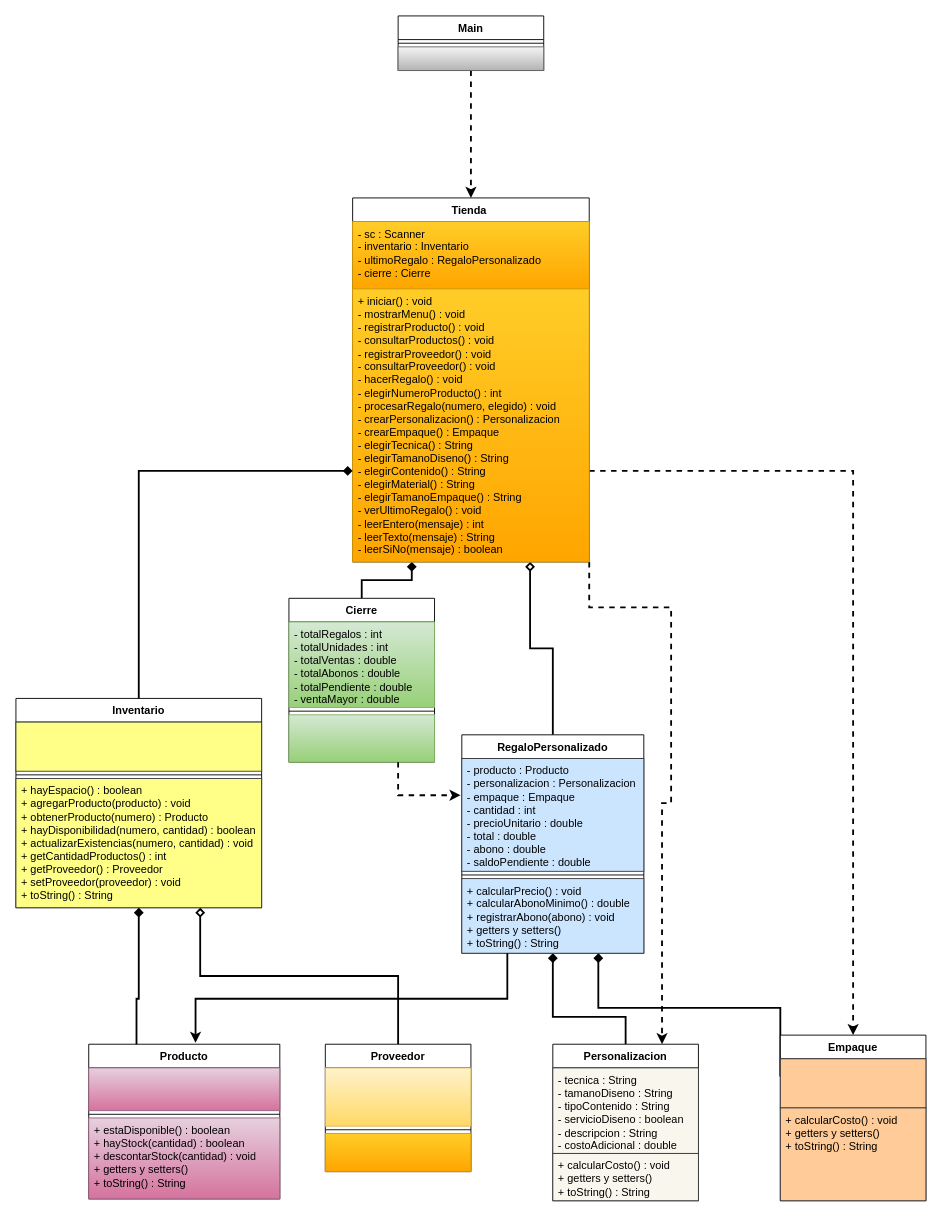
Some shapes in this 942 by 1219 pixel diagram are drawn without their labels. The shapes that lost their labels are listed below. From the top down, each one's centre as x and y in pixels, then its label:
At [470,58]: "+ main(args): void".
At [138,746]: "- producto1...8 : Producto - cantidadProductos : int - proveedor : Proveedor".
At [361,738]: "+ registar(regalo) : void + getters() + toString() : String".
At [184,1089]: "- nombre : String - precioBase : double - stock : int".
At [397,1096]: "- nombre : String - telefono : String - correo : String - suminista : String".
At [852,1083]: "- material : String - tamano : String - costo : double".
At [397,1152]: "+ getters y setters() + toString() : String".
